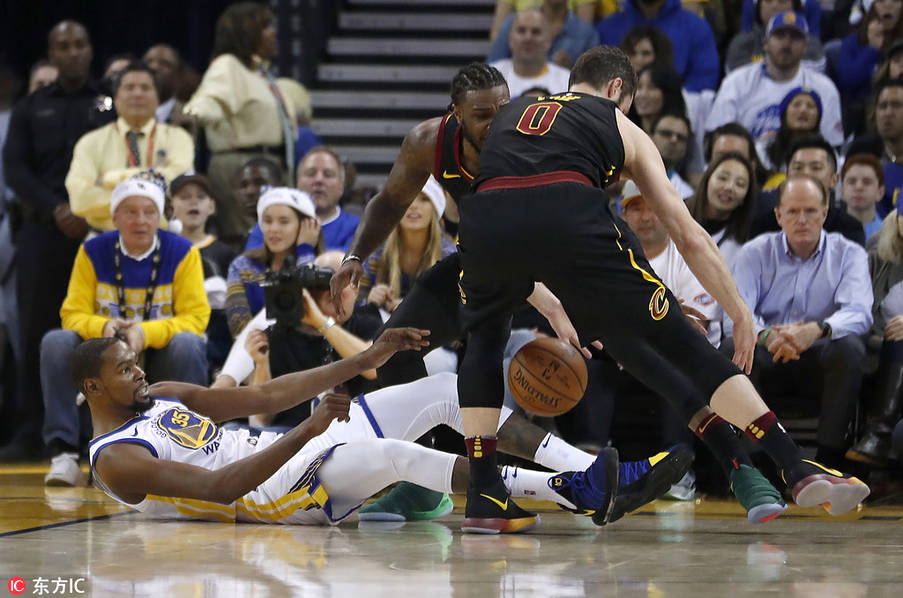10+: (1, 4, 899, 522)
down: (66, 333, 693, 536)
